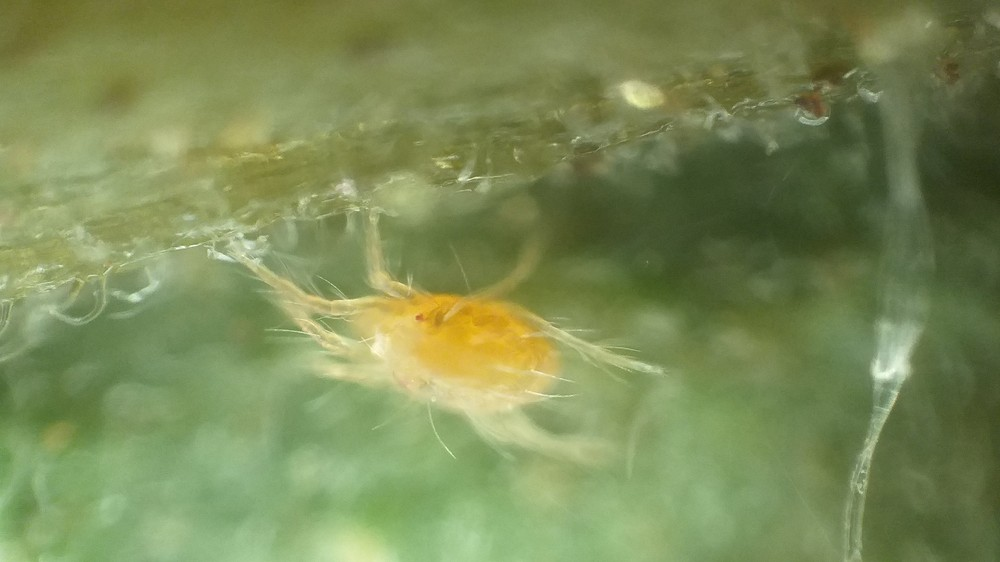Aracnido Rojo: (206, 184, 711, 495)
